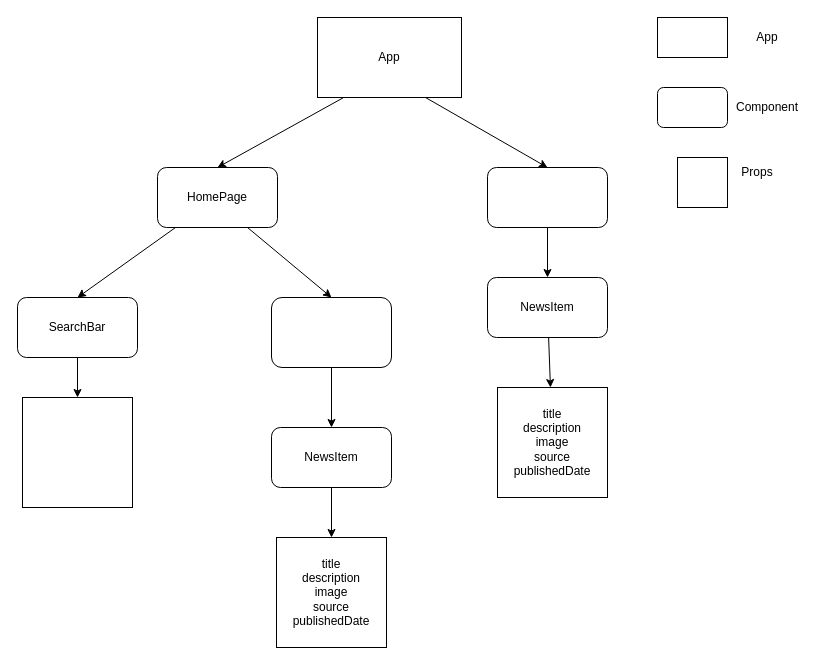
Some shapes in this 816 by 665 pixel diagram are drawn without their labels. Each missing label, with the centre of its shape:
"ArticlePage" goes at (547,197).
"input button" goes at (77,452).
"ResultsArea" goes at (331,332).
